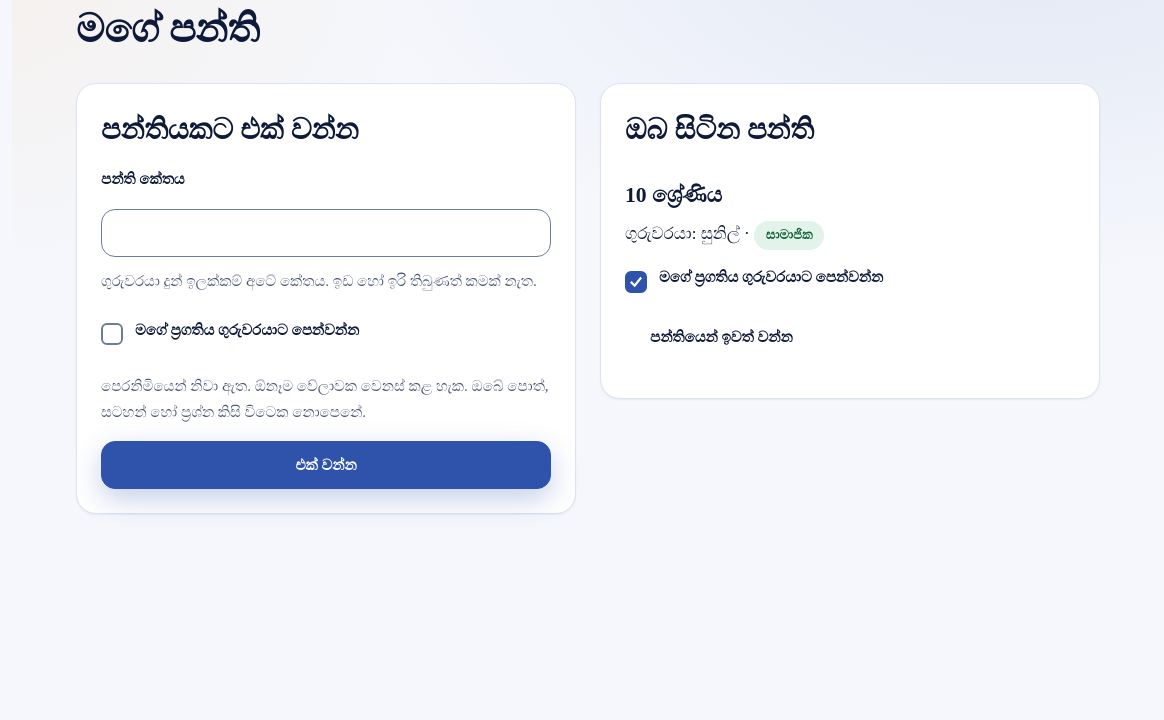
Test: joining a class › lets a student stop sharing, and leave
The image size is (1164, 720).
The class's name is in the label too, so each class's box is its own.
Click the checkbox named "10 ශ්‍රේණිය".
click(636, 282)  # box [625, 271, 647, 293]
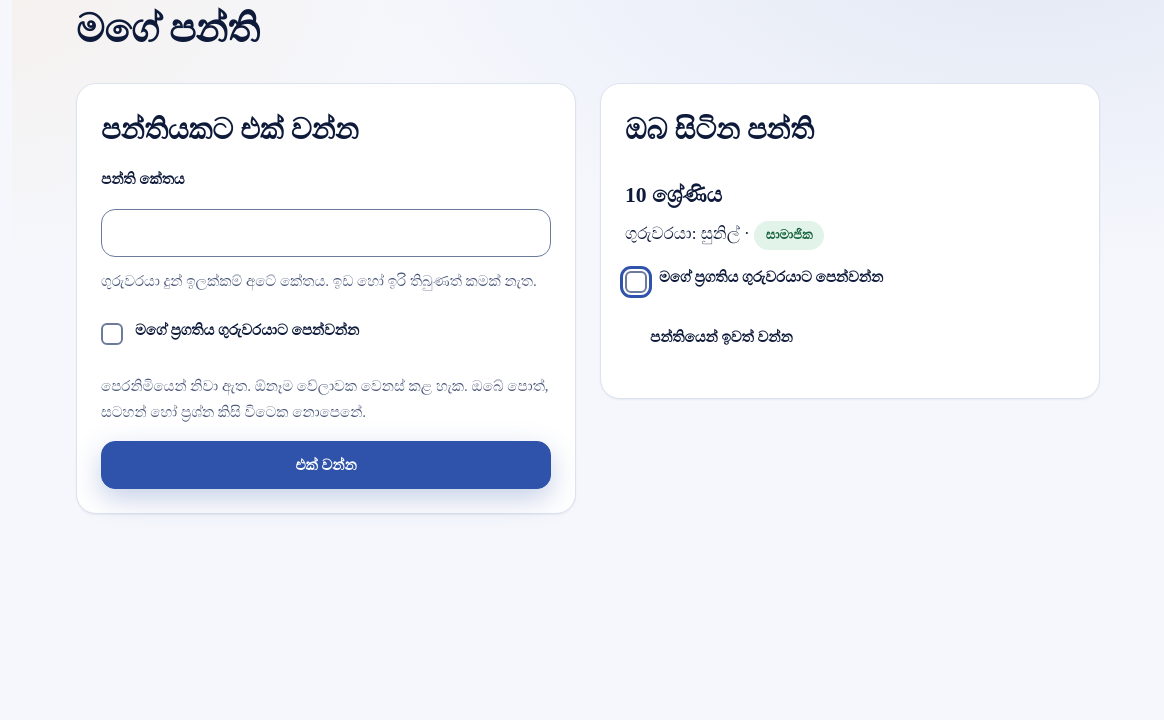
Click the button "පන්තියෙන් ඉවත් වන්න".
click(721, 338)  # box [625, 314, 818, 362]
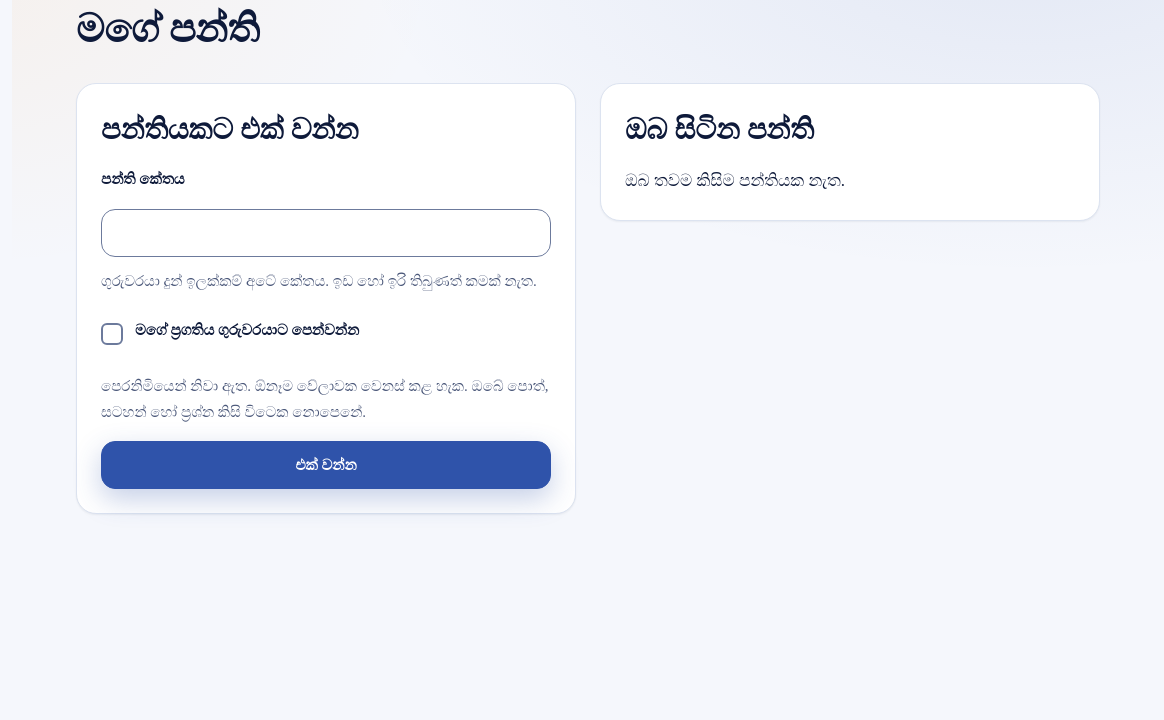
Now the text "ඔබ තවම කිසිම පන්තියක නැත." is shown, box [625, 172, 845, 190]
